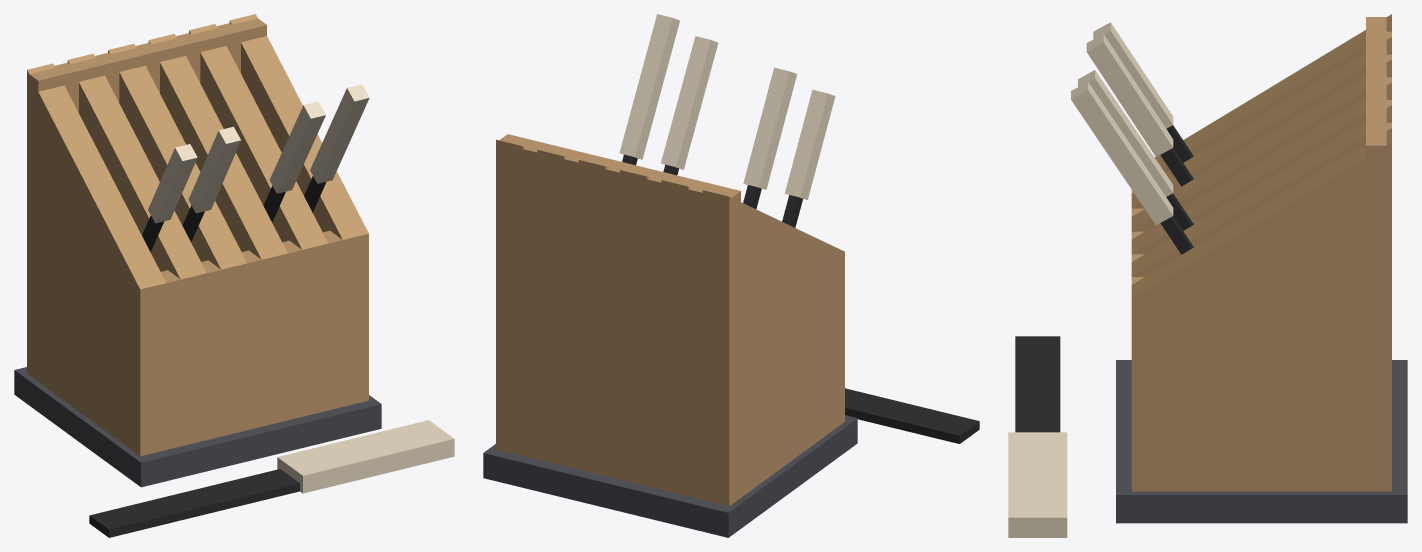
The model's file is FN_Block_Knife.obj.
3 views of the same model, side by side, from view 1: azimuth 30°, elevation 25°; view 2: azimuth 150°, elevation 25°; view 3: azimuth 270°, elevation 25° (orthographic). The views are drawn at different scales.
Visible parts, largest first — view 1: FN_Block_Knife; view 2: FN_Block_Knife; view 3: FN_Block_Knife.
Part boxes in pixels (x1,y1,x2,y2): FN_Block_Knife: (14, 14, 454, 537); FN_Block_Knife: (483, 14, 979, 537); FN_Block_Knife: (1008, 14, 1407, 537).
Size of the model in its own units: 0.262 by 0.264 by 0.23.
1 material, 1 textured.
